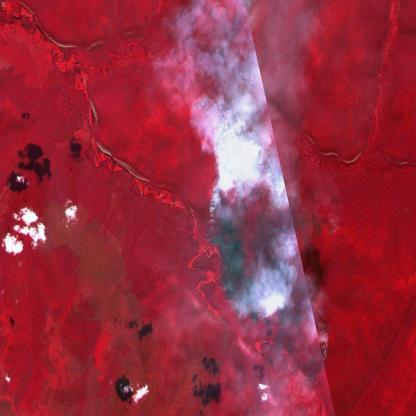fire: (200, 124, 336, 381)
